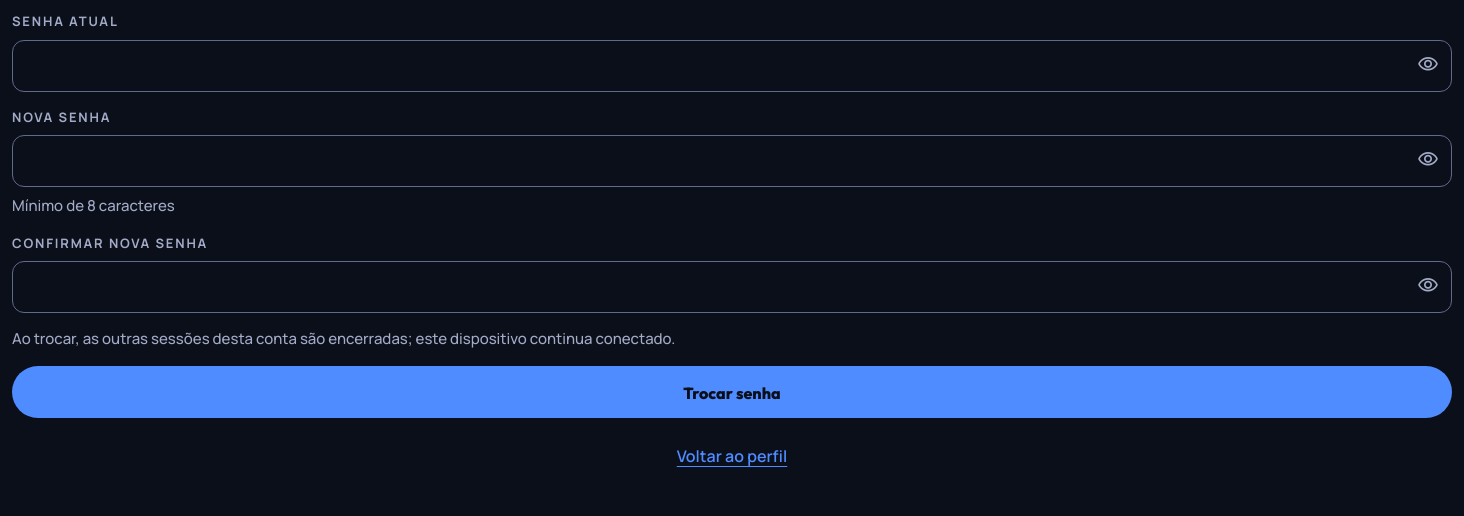
Test case: TrocarSenhaForm (CA-56) › confirmação diferente → "As senhas não coincidem" e NENHUMA request
The width and height of the screenshot is (1464, 516).
Type "segredo-forte" into the password field labelled "Senha atual".
click(732, 66); type("segredo-forte")  # box [12,40,1452,92]
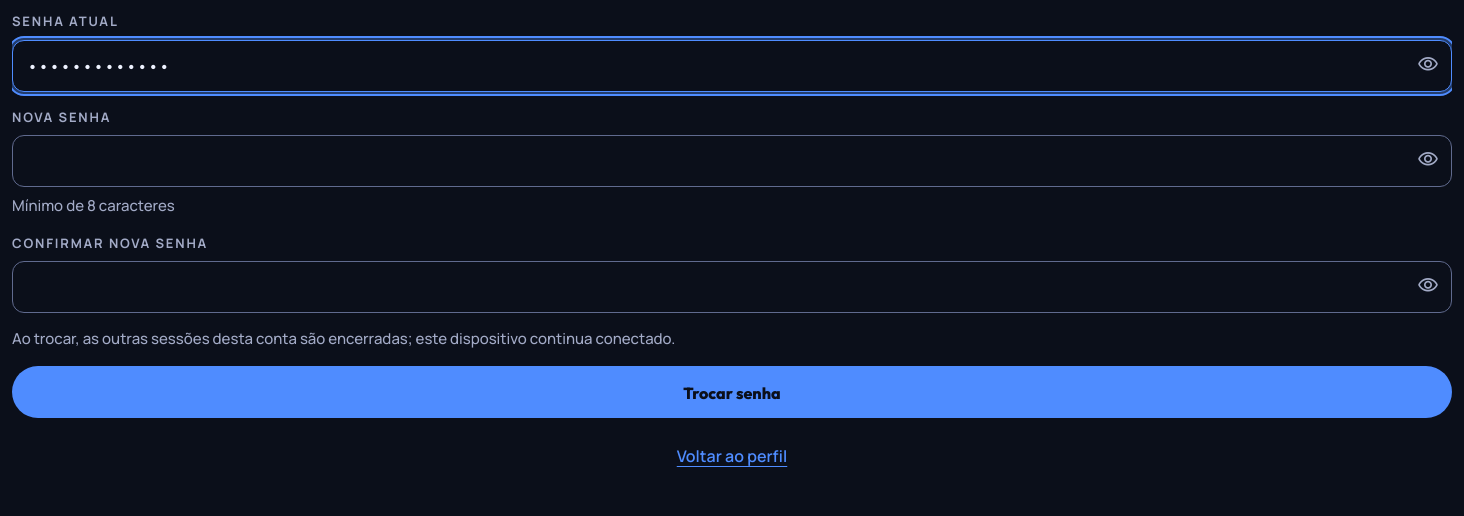
Type "outra-senha-boa" into the password field labelled "Nova senha".
click(732, 161); type("outra-senha-boa")  # box [12,135,1452,187]
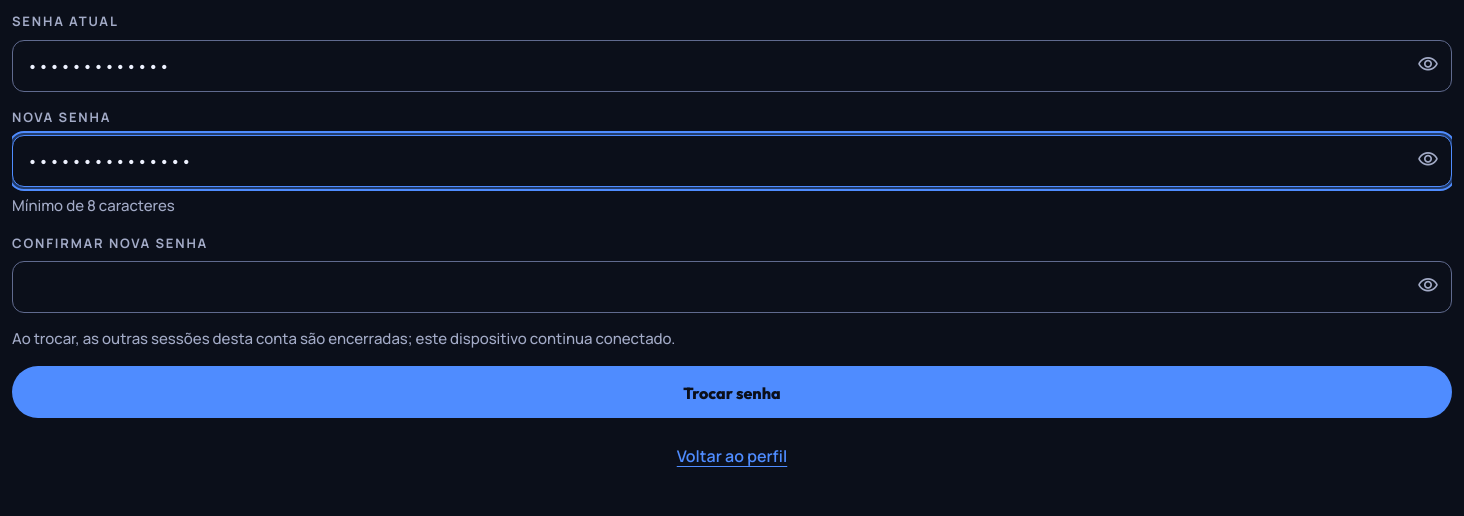
Type "outra-senha-ruim" into the password field labelled "Confirmar nova senha".
click(732, 287); type("outra-senha-ruim")  # box [12,261,1452,313]
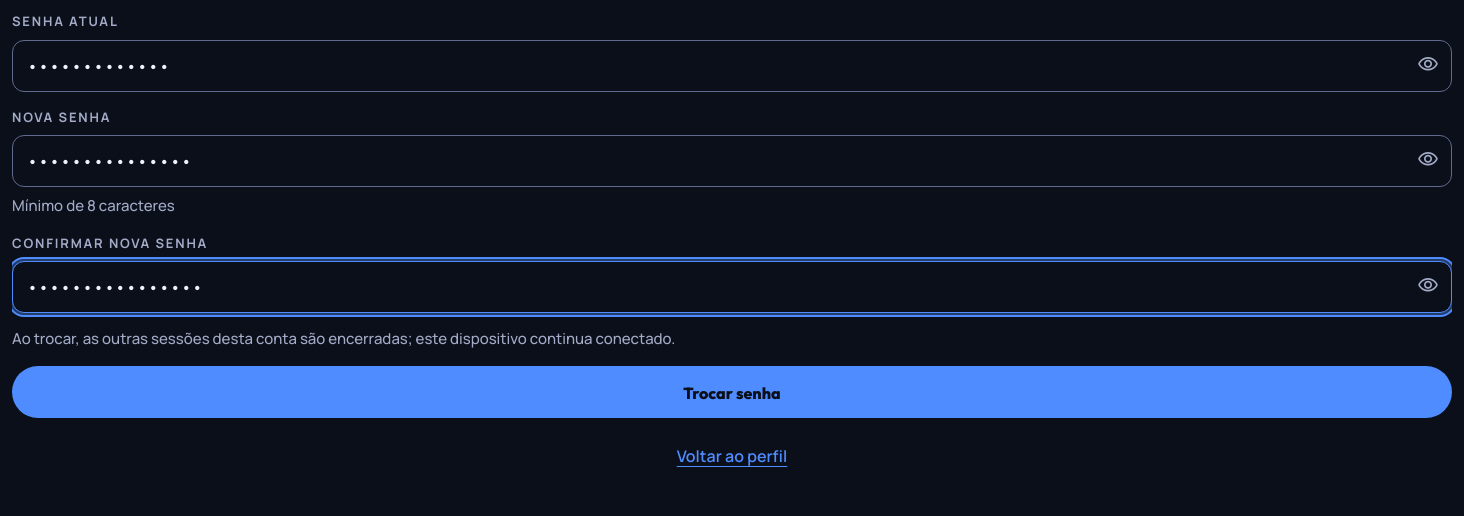
Click the button "Trocar senha".
click(732, 392)  # box [12,366,1452,418]
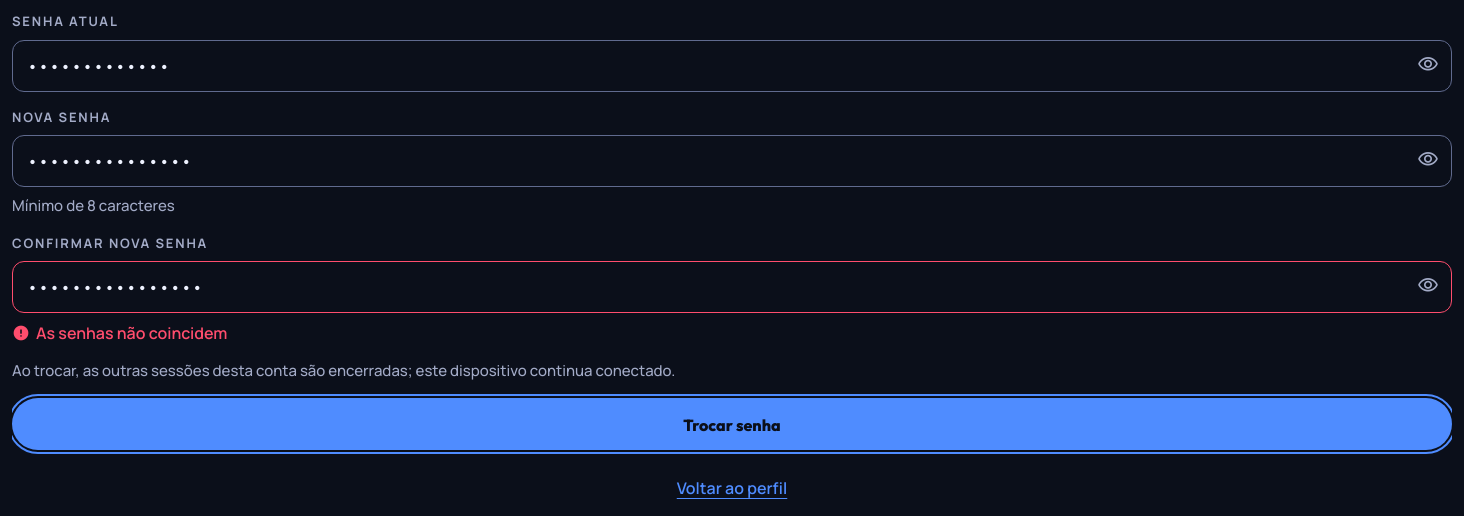
Expected: the text "As senhas não coincidem" is shown, [12,322,228,344]
